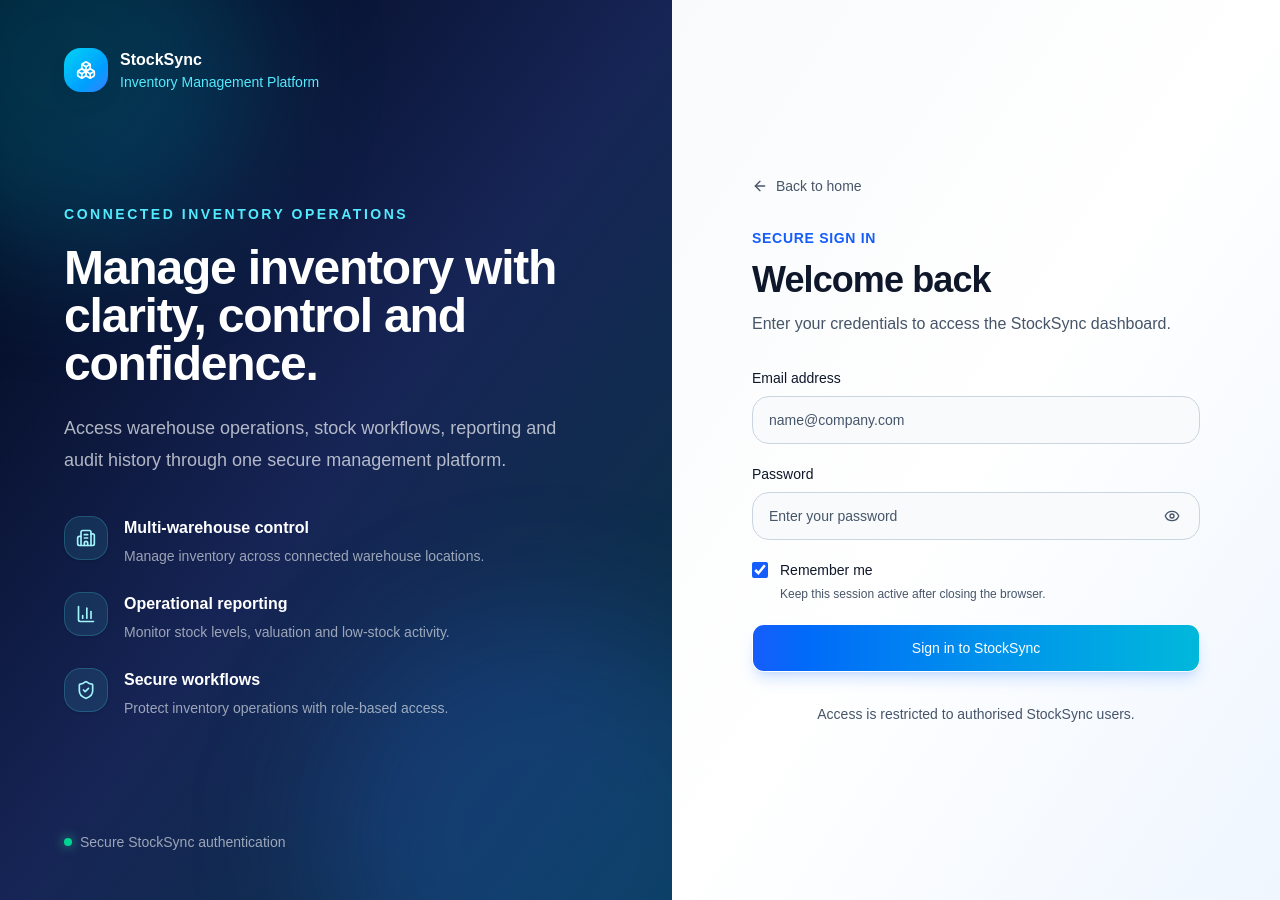
Test: LoginPage › shows an accessible error message when authentication fails
In the field labelled "Email address": (976, 420) [752, 396, 1200, 444], type "admin@stocksync.test"
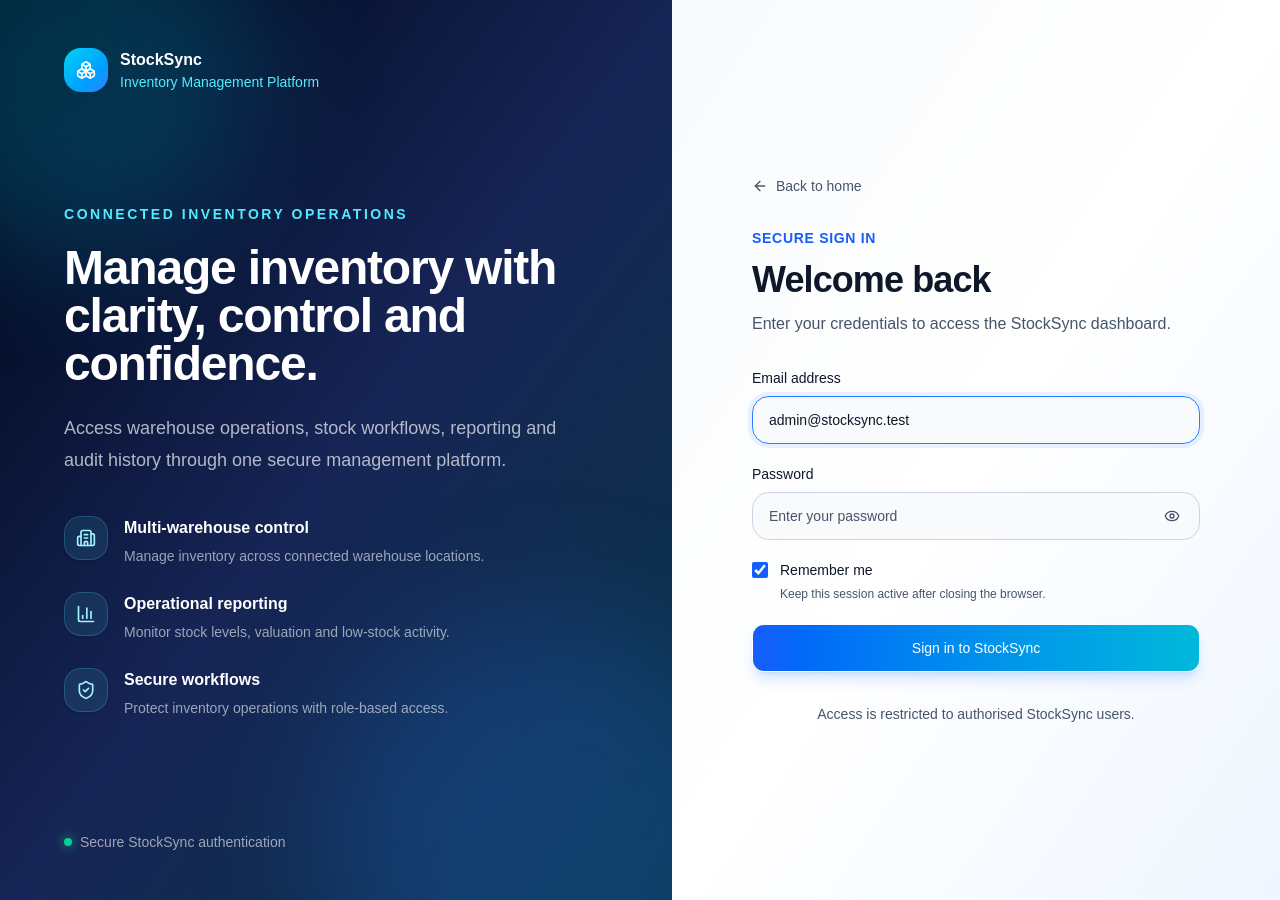
In the password field labelled "Password": (976, 516) [752, 492, 1200, 540], type "IncorrectPassword"
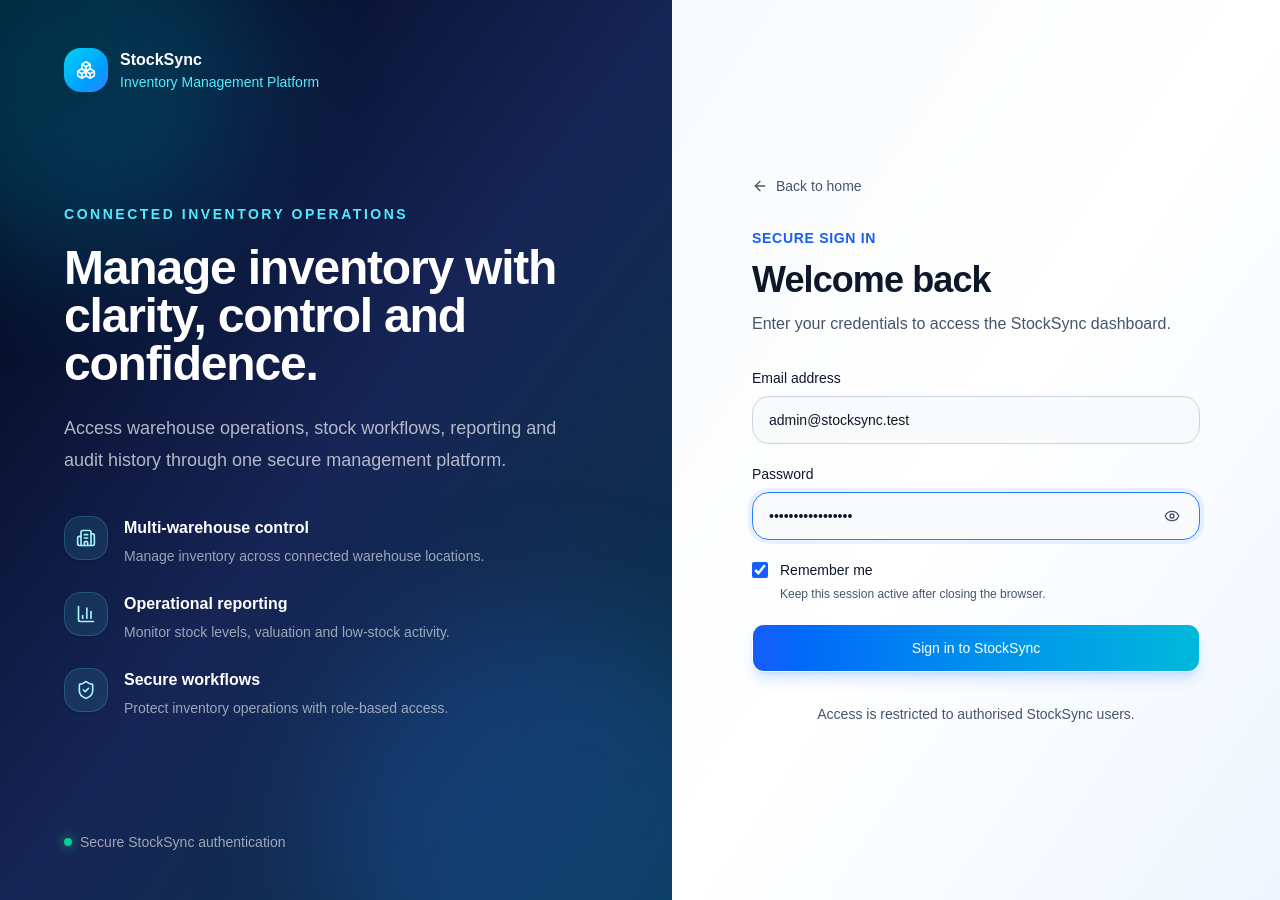
Click the button "Sign in to StockSync": (976, 648) [752, 624, 1200, 672]
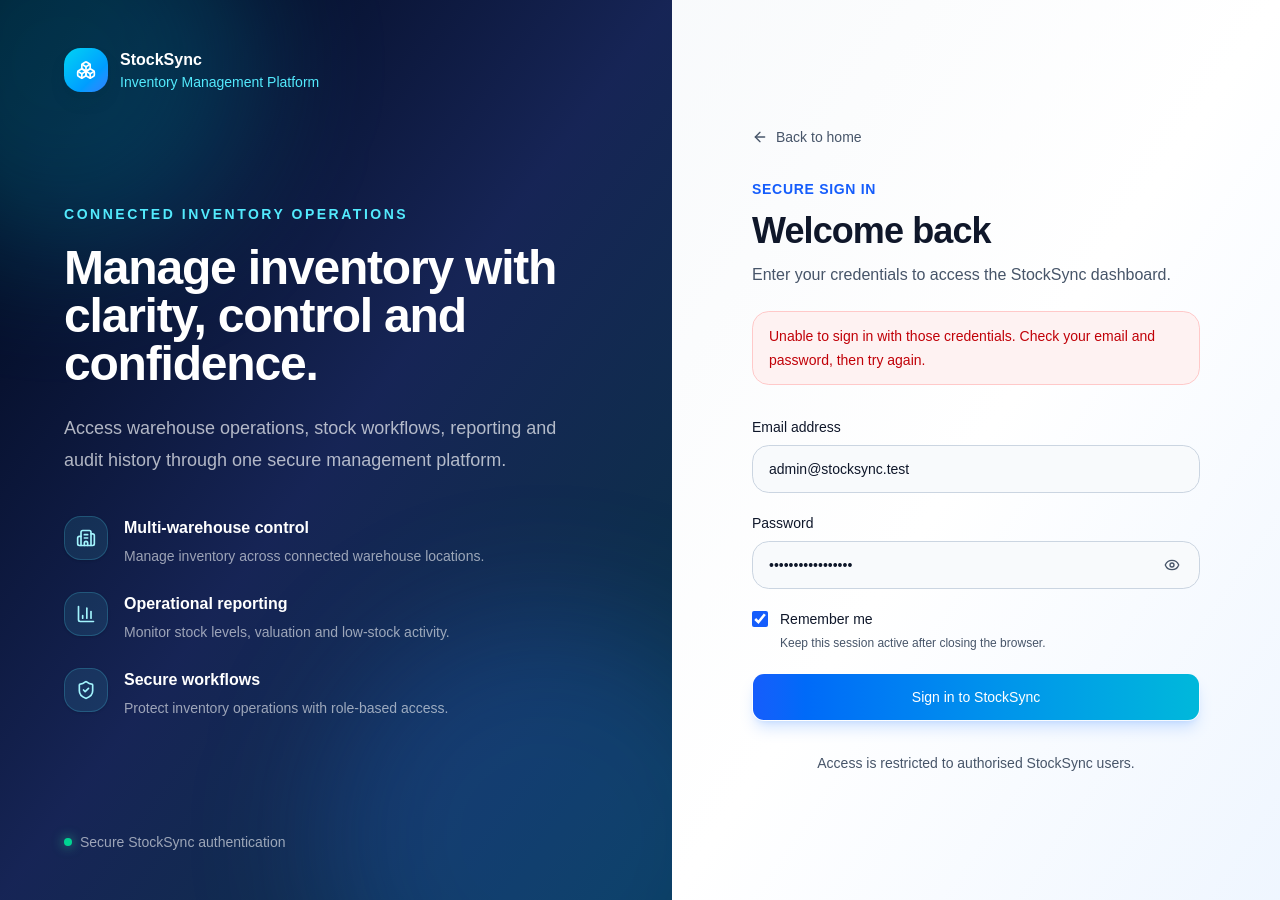
Now the message shows "Unable to sign in with those credentials", box [769, 328, 1155, 368]
